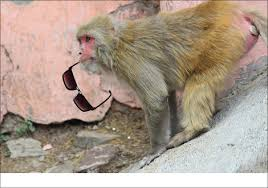monkey: (58, 16, 258, 165)
